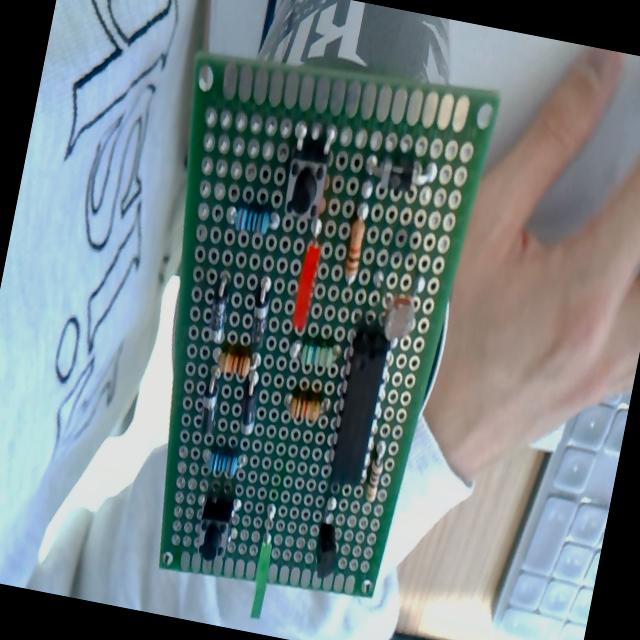IC: (324, 324, 394, 490)
cds: (378, 268, 426, 344)
diode: (367, 149, 435, 199), (204, 273, 234, 346), (246, 278, 275, 349), (196, 370, 223, 437), (236, 374, 264, 436)
led: (289, 187, 334, 331), (244, 506, 282, 622)
resistor: (340, 192, 373, 286), (229, 202, 273, 240), (362, 447, 388, 504), (287, 390, 324, 428), (204, 444, 242, 480), (216, 344, 254, 380), (300, 339, 336, 374)
switch: (282, 134, 334, 226), (193, 492, 237, 565)
transistor: (310, 493, 348, 581)
